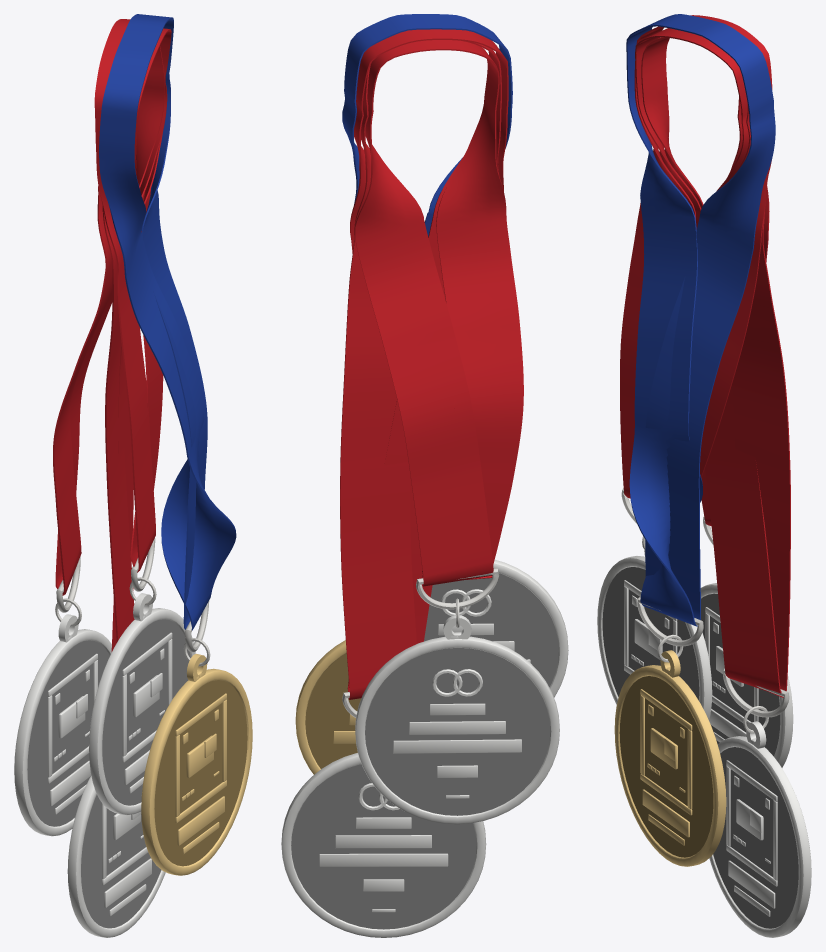
File: medals.glb
The picture shows the model from 3 angles, left to right: view 1: azimuth 30°, elevation 25°; view 2: azimuth 150°, elevation 25°; view 3: azimuth 270°, elevation 25°; orthographic projection. The views are drawn at different scales.
Parts seen in each view (by area): view 1: medal_m1_ribbon, medal_m1_disc, medal_m4_disc, medal_m2_disc, medal_m3_disc, medal_m2_ribbon, medal_m4_ribbon, medal_m3_ribbon, medal_m4_clasp, medal_m2_clasp, medal_m1_clasp; view 2: medal_m4_ribbon, medal_m4_disc, medal_m3_ribbon, medal_m3_disc, medal_m2_disc, medal_m1_disc, medal_m1_ribbon, medal_m2_ribbon, medal_m4_clasp; view 3: medal_m1_ribbon, medal_m3_ribbon, medal_m1_disc, medal_m3_disc, medal_m2_ribbon, medal_m2_disc, medal_m4_disc, medal_m4_ribbon, medal_m3_clasp, medal_m1_clasp.
Part boxes in pixels (box(x1,y1,x2,y2)): medal_m1_ribbon: box(99, 14, 236, 630); medal_m1_disc: box(141, 653, 252, 875); medal_m4_disc: box(14, 614, 111, 836); medal_m2_disc: box(89, 593, 195, 815); medal_m3_disc: box(67, 776, 165, 937); medal_m2_ribbon: box(94, 19, 163, 572); medal_m4_ribbon: box(53, 46, 164, 595); medal_m3_ribbon: box(102, 28, 171, 651); medal_m4_clasp: box(55, 556, 81, 626); medal_m2_clasp: box(129, 538, 156, 605); medal_m1_clasp: box(183, 600, 210, 666); medal_m4_ribbon: box(355, 40, 523, 586); medal_m4_disc: box(355, 615, 559, 824); medal_m3_ribbon: box(340, 40, 501, 699); medal_m3_disc: box(281, 752, 486, 937); medal_m2_disc: box(424, 559, 568, 697); medal_m1_disc: box(295, 640, 361, 774); medal_m1_ribbon: box(342, 14, 512, 236); medal_m2_ribbon: box(350, 29, 508, 253); medal_m4_clasp: box(416, 568, 499, 627); medal_m1_ribbon: box(626, 14, 775, 626); medal_m3_ribbon: box(635, 28, 790, 697); medal_m1_disc: box(614, 650, 726, 866); medal_m3_disc: box(709, 721, 811, 937); medal_m2_ribbon: box(620, 15, 772, 498); medal_m2_disc: box(597, 550, 712, 720); medal_m4_disc: box(700, 583, 793, 767); medal_m4_ribbon: box(641, 37, 769, 526); medal_m3_clasp: box(723, 668, 789, 733); medal_m1_clasp: box(637, 597, 703, 662).
Size of the model in its own units: 0.0978 by 0.339 by 0.0731.
